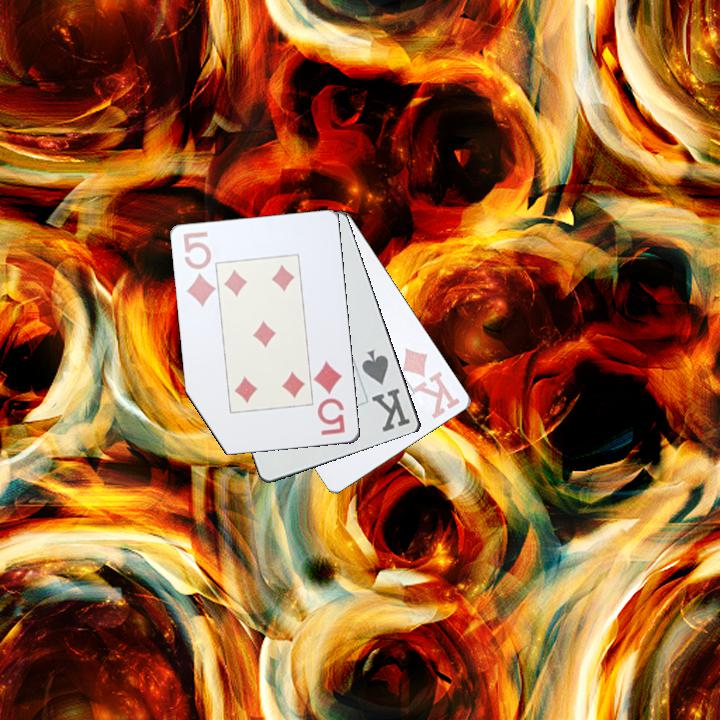5d: (180, 228, 218, 310), (311, 357, 348, 438)
Kd: (399, 344, 464, 421)
Ks: (358, 346, 414, 435)
